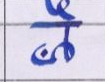au_matra: (52, 0, 80, 60)
